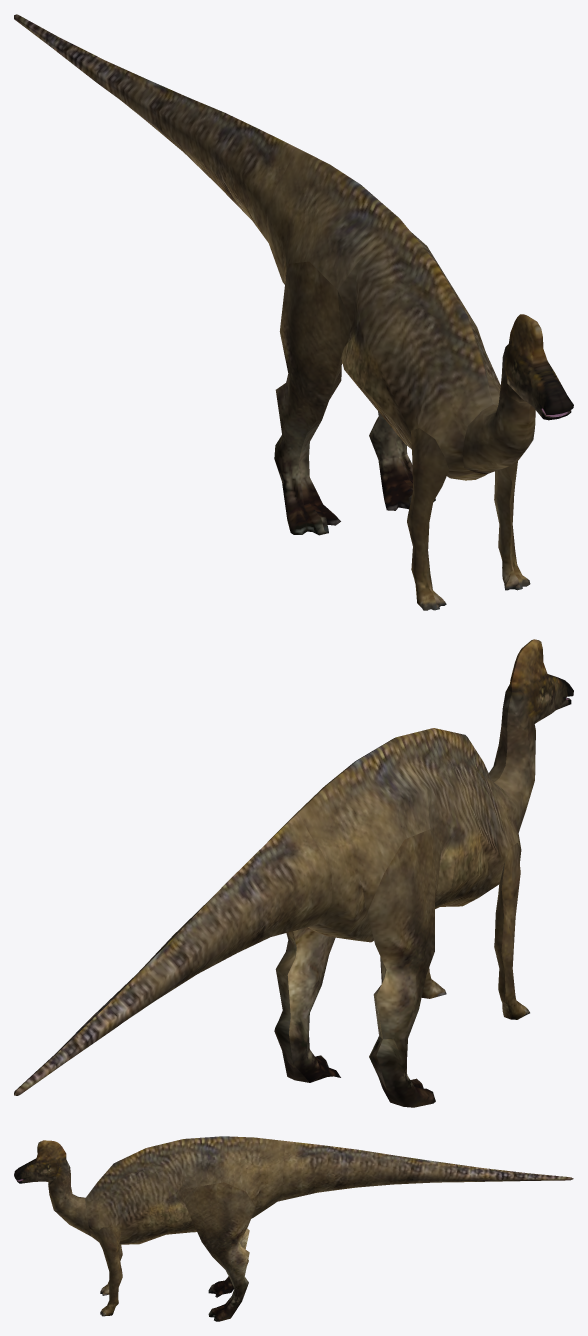
File: cory.obj
3 renders of one model, top to bottom at view 1: azimuth 30°, elevation 25°; view 2: azimuth 150°, elevation 25°; view 3: azimuth 270°, elevation 25°, orthographic. The views are drawn at different scales.
Parts seen in each view (by area): view 1: cory; view 2: cory; view 3: cory.
Part boxes in pixels (x1,y1,x2,y2): cory: (14, 14, 573, 610); cory: (14, 639, 573, 1107); cory: (14, 1136, 573, 1321).
Size of the model in its own units: 1.43 by 3.15 by 9.53.
1 material, 1 textured.
